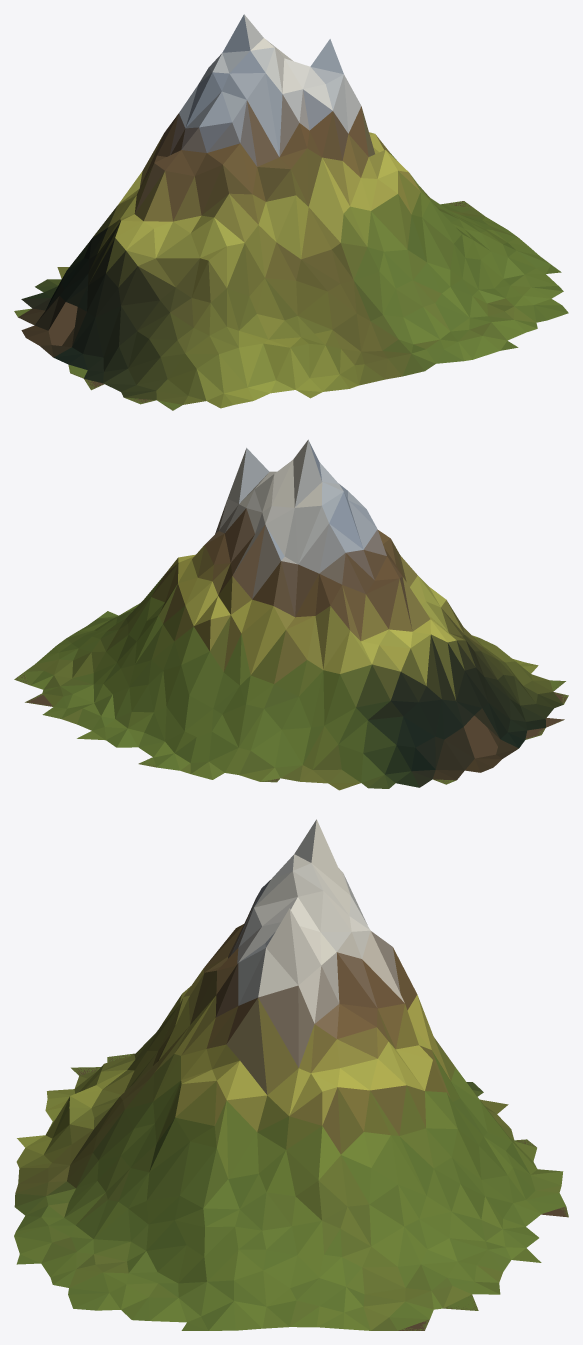
File: low_poly_low_mountain.glb
The picture shows the model from 3 angles, top to bottom: view 1: azimuth 30°, elevation 25°; view 2: azimuth 150°, elevation 25°; view 3: azimuth 270°, elevation 25°; orthographic projection. The views are drawn at different scales.
Visible parts, largest first — view 1: low_poly_low_mountain; view 2: low_poly_low_mountain; view 3: low_poly_low_mountain.
Boxes of the visible parts, x1,y1,x2,y2 form: low_poly_low_mountain: [14, 14, 568, 410]; low_poly_low_mountain: [14, 439, 568, 790]; low_poly_low_mountain: [14, 819, 568, 1330].
Bounding box in the file's own units: 40.69 × 23.2 × 33.16.
